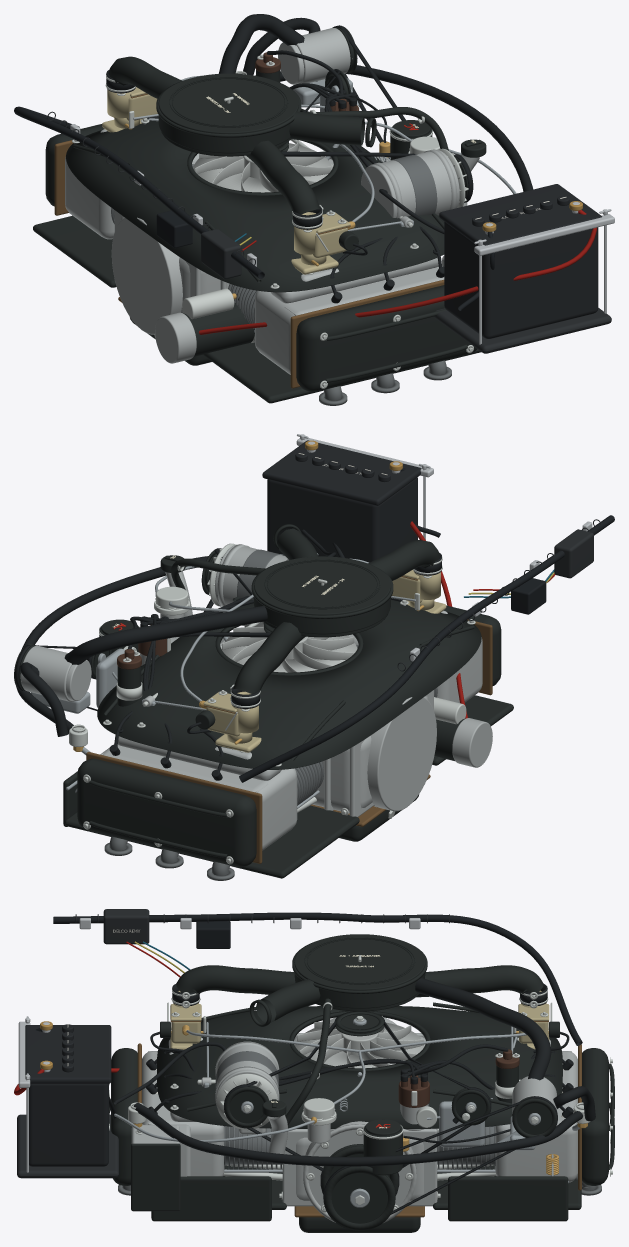
Rendered from engine.glb.
The picture shows the model from 3 angles, top to bottom: view 1: azimuth 30°, elevation 25°; view 2: azimuth 150°, elevation 25°; view 3: azimuth 270°, elevation 25°; orthographic projection. The views are drawn at different scales.
Parts seen in each view (by area): view 1: p1053, p0004, p1842, p1063, p1427, p0020, p1816, p1877, p1406, p1878, p0021, p0953 (+35 smaller); view 2: p1053, p2025, p0004, p1063, p1427, p0020, p1999, p1878, p0257, p0967, p2039, p0953 (+33 smaller); view 3: p1053, p0004, p1063, p2116, p0953, p2115, p0020, p0257, p1905, p1999, p2025, p0967 (+58 smaller).
Part boxes in pixels (x1,y1,x2,y2): p1053: [66, 116, 444, 292]; p0004: [444, 221, 598, 338]; p1842: [296, 285, 476, 391]; p1063: [158, 73, 298, 133]; p1427: [111, 217, 182, 334]; p0020: [439, 184, 602, 245]; p1816: [255, 266, 444, 374]; p1877: [203, 342, 481, 403]; p1406: [361, 150, 459, 217]; p1878: [33, 215, 116, 287]; p0021: [434, 308, 611, 353]; p0953: [255, 65, 533, 191]; p1053: [97, 599, 481, 769]; p2025: [77, 758, 256, 867]; p0004: [267, 477, 417, 562]; p1063: [254, 556, 390, 615]; p1427: [367, 697, 436, 811]; p0020: [262, 440, 421, 505]; p1999: [100, 744, 297, 850]; p1878: [65, 805, 359, 878]; p0257: [239, 515, 614, 782]; p0967: [64, 606, 267, 664]; p2039: [233, 622, 305, 693]; p0953: [16, 554, 284, 733]; p1053: [157, 1006, 562, 1128]; p0004: [29, 1083, 108, 1166]; p1063: [294, 934, 425, 990]; p2116: [448, 1176, 568, 1221]; p0953: [133, 1102, 582, 1166]; p2115: [151, 1176, 271, 1221]; p0020: [25, 1025, 111, 1083]; p0257: [53, 912, 582, 1045]; p1905: [131, 1143, 180, 1211]; p1999: [495, 1051, 577, 1182]; p2025: [582, 1048, 608, 1185]; p0967: [415, 978, 551, 1080].
Size of the model in its own units: 0.9598 by 0.5253 by 1.31.
